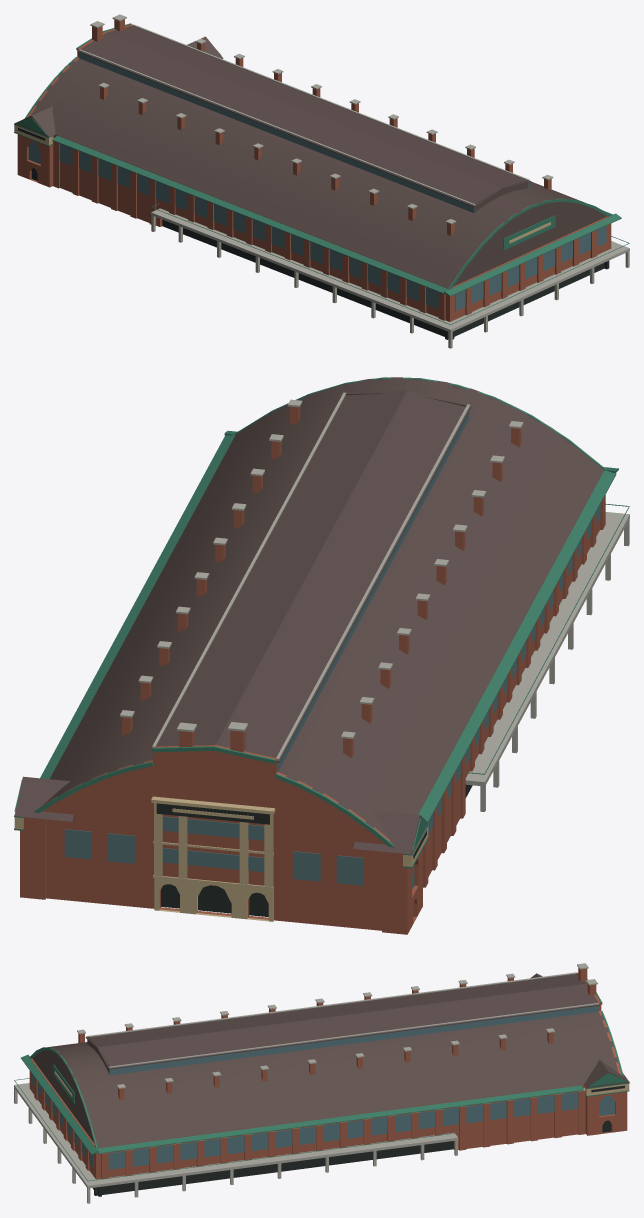
Rendered from st-lawrence-market-far.glb.
3 views of the same model, one above another, from view 1: azimuth 30°, elevation 25°; view 2: azimuth 150°, elevation 25°; view 3: azimuth 270°, elevation 25° (orthographic). The views are drawn at different scales.
Parts seen in each view (by area): view 1: st-lawrence-market-0-roof, st-lawrence-market-0-brick, st-lawrence-market-0-glow, st-lawrence-market-0-concrete, st-lawrence-market-0-copper, st-lawrence-market-0-ink; view 2: st-lawrence-market-0-roof, st-lawrence-market-0-brick, st-lawrence-market-0-concrete, st-lawrence-market-0-copper, st-lawrence-market-0-glow, st-lawrence-market-0-buff, st-lawrence-market-0-ink; view 3: st-lawrence-market-0-roof, st-lawrence-market-0-brick, st-lawrence-market-0-glow, st-lawrence-market-0-concrete, st-lawrence-market-0-copper, st-lawrence-market-0-ink, st-lawrence-market-0-buff.
Part boxes in pixels (left/top/right/bottom): st-lawrence-market-0-roof: left=14, top=26, right=606, bottom=288; st-lawrence-market-0-brick: left=17, top=19, right=611, bottom=321; st-lawrence-market-0-glow: left=28, top=52, right=606, bottom=311; st-lawrence-market-0-concrete: left=78, top=14, right=629, bottom=348; st-lawrence-market-0-copper: left=14, top=23, right=629, bottom=324; st-lawrence-market-0-ink: left=18, top=128, right=609, bottom=339; st-lawrence-market-0-roof: left=14, top=377, right=603, bottom=854; st-lawrence-market-0-brick: left=20, top=406, right=605, bottom=934; st-lawrence-market-0-concrete: left=120, top=392, right=629, bottom=811; st-lawrence-market-0-copper: left=14, top=377, right=629, bottom=868; st-lawrence-market-0-glow: left=64, top=412, right=600, bottom=889; st-lawrence-market-0-buff: left=14, top=796, right=428, bottom=921; st-lawrence-market-0-ink: left=156, top=784, right=472, bottom=916; st-lawrence-market-0-roof: left=32, top=973, right=629, bottom=1147; st-lawrence-market-0-brick: left=29, top=968, right=627, bottom=1179; st-lawrence-market-0-glow: left=31, top=1006, right=614, bottom=1169; st-lawrence-market-0-concrete: left=14, top=963, right=598, bottom=1203; st-lawrence-market-0-copper: left=14, top=979, right=629, bottom=1181; st-lawrence-market-0-ink: left=92, top=1085, right=624, bottom=1196; st-lawrence-market-0-buff: left=54, top=1071, right=629, bottom=1153.
Size of the model in its own units: 77.57 by 23.84 by 119.
